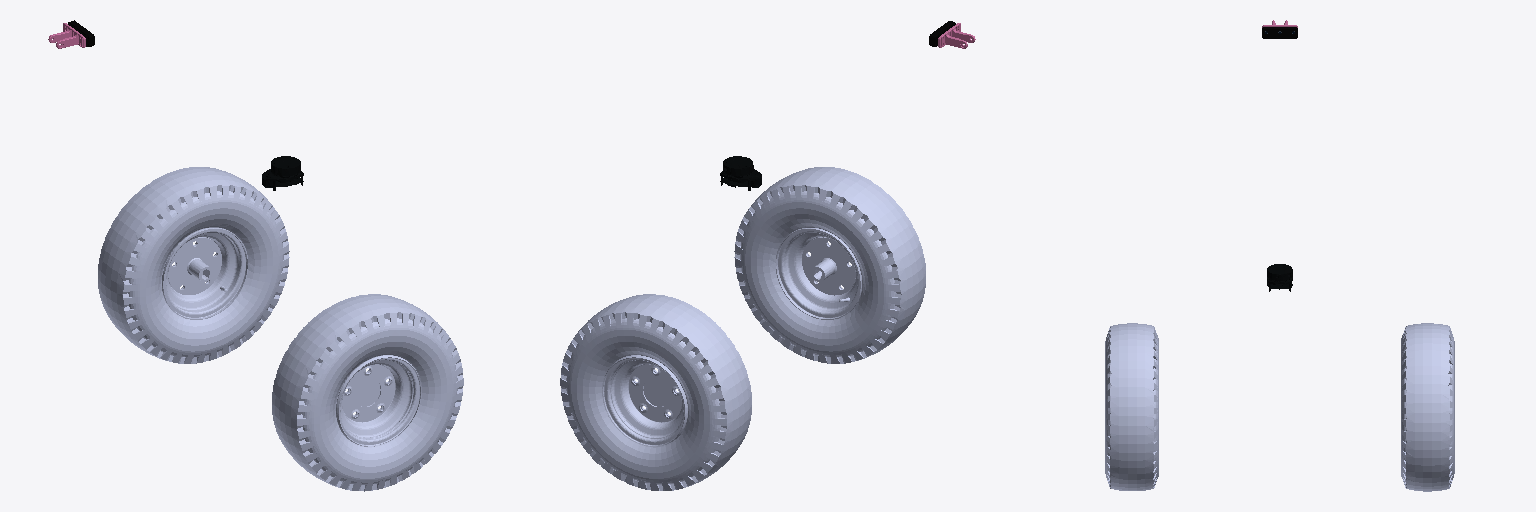
The robot description file, URDF, robot "r3_a":
<?xml version="1.0" ?>
<!-- =================================================================================== -->
<!-- |    This document was autogenerated by xacro from /mnt/c/Users/brand/Documents/ChatGPT/IGVC SIM/ros2/src/igvc_description/urdf/r3_a.urdf.xacro | -->
<!-- |    EDITING THIS FILE BY HAND IS NOT RECOMMENDED                                 | -->
<!-- =================================================================================== -->
<robot name="r3_a">
  <!--Canonical normalized export. Collision boxes are provisional outer bounds, not validated wheel/contact geometry. No sensor mounts or base_footprint added.-->
  <link name="base_link">
    <inertial>
      <origin rpy="0 0 0" xyz="0.037416177594850997 -0.0012743090117183201 0.047060864214616999"/>
      <mass value="81.1401446778104"/>
      <inertia ixx="0.728632085236677" ixy="1.32350753774596E-05" ixz="-0.022485961790775701" iyy="1.14289496966306" iyz="-7.48148338659214e-05" izz="1.53133782528754"/>
    </inertial>
    <visual>
      <origin rpy="0 0 3.1415926535897931" xyz="-0 -0 0"/>
      <geometry>
        <mesh filename="package://igvc_description/meshes/camera_mount/base_static_source_basis.stl"/>
      </geometry>
      <material name="">
        <color rgba="0.752941176470588 0.752941176470588 0.752941176470588 1"/>
      </material>
    </visual>
    <collision name="provisional_bounds_0">
      <origin rpy="0 0 0" xyz="-0.12021836638450623 -0 0.34425326436758041"/>
      <geometry>
        <box size="0.91920000314712524 0.7556459903717041 0.95149345695972443"/>
      </geometry>
    </collision>
  </link>
  <link name="wheel_left">
    <inertial>
      <origin rpy="0 0 0" xyz="1.7979609136242699e-05 -0.0035769797595725 -1.79796950559377e-05"/>
      <mass value="6.00743296352879"/>
      <inertia ixx="0.113142005853355" ixy="-3.62584231888751E-08" ixz="8.1856476746248695e-07" iyy="0.205661598440745" iyz="3.6267072903960198e-08" izz="0.113144233755394"/>
    </inertial>
    <visual>
      <origin rpy="0 0 3.1415926535897931" xyz="-0 -0 0"/>
      <geometry>
        <mesh filename="package://igvc_description/meshes/visual/wheel_right.stl"/>
      </geometry>
      <material name="">
        <color rgba="0.792156862745098 0.819607843137255 0.933333333333333 1"/>
      </material>
    </visual>
    <collision name="provisional_bounds_0">
      <origin rpy="0 0 0" xyz="-0 -0.0019050240516662598 0"/>
      <geometry>
        <box size="0.45904400944709778 0.14729635417461395 0.458810955286026"/>
      </geometry>
    </collision>
  </link>
  <joint name="leftWheel" type="continuous">
    <origin rpy="0 0 0" xyz="0.25591000000000003 0.40526000000000001 -0.074450000000000002"/>
    <parent link="base_link"/>
    <child link="wheel_left"/>
    <axis xyz="-0 1 0"/>
    <limit effort="10" velocity="10"/>
    <dynamics damping="0.5" friction="0.5"/>
  </joint>
  <link name="wheel_right">
    <inertial>
      <origin rpy="0 0 0" xyz="-1.7979609126361799e-05 0.0035769797595726102 -1.7979695055792e-05"/>
      <mass value="6.00743296352881"/>
      <inertia ixx="0.113142005853356" ixy="-3.62584231895956E-08" ixz="-8.1856476739378803e-07" iyy="0.205661598440746" iyz="-3.6267072944762298e-08" izz="0.113144233755395"/>
    </inertial>
    <visual>
      <origin rpy="0 0 3.1415926535897931" xyz="-0 -0 0"/>
      <geometry>
        <mesh filename="package://igvc_description/meshes/visual/wheel_left.stl"/>
      </geometry>
      <material name="">
        <color rgba="0.792156862745098 0.819607843137255 0.933333333333333 1"/>
      </material>
    </visual>
    <collision name="provisional_bounds_0">
      <origin rpy="0 0 0" xyz="-0 0.0019050240516662598 0"/>
      <geometry>
        <box size="0.45904400944709778 0.14729635417461395 0.458810955286026"/>
      </geometry>
    </collision>
  </link>
  <joint name="rightWheel" type="continuous">
    <origin rpy="0 0 0" xyz="0.25591000000000003 -0.40525 -0.074450000000000002"/>
    <parent link="base_link"/>
    <child link="wheel_right"/>
    <axis xyz="-0 -1 0"/>
    <limit effort="10" velocity="10"/>
    <dynamics damping="0.5" friction="0.5"/>
  </joint>
  <link name="left_caster">
    <inertial>
      <origin rpy="0 0 0" xyz="-0.039652255620055601 -5.81009720836689e-05 -0.13418182511891799"/>
      <mass value="1.85010410933945"/>
      <inertia ixx="0.00574331776783894" ixy="2.86835844426741E-08" ixz="-0.000128265973193796" iyy="0.00961425292360563" iyz="8.6762142845401104e-08" izz="0.00547082250538176"/>
    </inertial>
    <visual>
      <origin rpy="0 0 3.1415926535897931" xyz="-0 -0 0"/>
      <geometry>
        <mesh filename="package://igvc_description/meshes/visual/right_caster.stl"/>
      </geometry>
      <material name="">
        <color rgba="0.752941176470588 0.752941176470588 0.752941176470588 1"/>
      </material>
    </visual>
    <collision name="provisional_bounds_0">
      <origin rpy="0 0 0" xyz="-0.044450003653764725 -0.0013969987630844116 -0.12215155526064336"/>
      <geometry>
        <box size="0.20320000499486923 0.12065000087022781 0.25700312526896596"/>
      </geometry>
    </collision>
  </link>
  <joint name="leftCaster" type="continuous">
    <origin rpy="0 0 0" xyz="-0.52775000000000005 0.24612000000000001 -0.03635"/>
    <parent link="base_link"/>
    <child link="left_caster"/>
    <axis xyz="-0 -0 1"/>
    <limit effort="10" velocity="10"/>
    <dynamics damping="0.1" friction="0.1"/>
  </joint>
  <link name="right_caster">
    <inertial>
      <origin rpy="0 0 0" xyz="-0.039652255620043299 -5.8100972084779197e-05 -0.13418182511888299"/>
      <mass value="1.85010410933997"/>
      <inertia ixx="0.00574331776784025" ixy="2.86835844965072E-08" ixz="-0.00012826597319479501" iyy="0.00961425292360711" iyz="8.6762142935348604e-08" izz="0.00547082250538194"/>
    </inertial>
    <visual>
      <origin rpy="0 0 3.1415926535897931" xyz="-0 -0 0"/>
      <geometry>
        <mesh filename="package://igvc_description/meshes/visual/left_caster.stl"/>
      </geometry>
      <material name="">
        <color rgba="0.752941176470588 0.752941176470588 0.752941176470588 1"/>
      </material>
    </visual>
    <collision name="provisional_bounds_0">
      <origin rpy="0 0 0" xyz="-0.044450003653764725 -0.0013969987630844116 -0.12215155526064336"/>
      <geometry>
        <box size="0.20320000499486923 0.12065000087022781 0.25700312526896596"/>
      </geometry>
    </collision>
  </link>
  <joint name="rightCaster" type="continuous">
    <origin rpy="0 0 0" xyz="-0.52775000000000005 -0.24612000000000001 -0.03635"/>
    <parent link="base_link"/>
    <child link="right_caster"/>
    <axis xyz="-0 -0 1"/>
    <limit effort="10" velocity="10"/>
    <dynamics damping="0.1" friction="0.1"/>
  </joint>
  <link name="lidar_link">
    <visual>
      <origin rpy="0 0 0" xyz="0 0 -0.044600000000000001"/>
      <geometry>
        <mesh filename="package://igvc_description/meshes/lidar/rplidar_a1.stl"/>
      </geometry>
      <material name="lidar_dark">
        <color rgba="0.055 0.065 0.07 1"/>
      </material>
    </visual>
  </link>
  <joint name="lidar_mount" type="fixed">
    <parent link="base_link"/>
    <child link="lidar_link"/>
    <origin rpy="0 0 0" xyz="0.27002280000000001 0 0.33960000000000001"/>
  </joint>
  <link name="camera_mount_link">
    <visual>
      <geometry>
        <mesh filename="package://igvc_description/meshes/camera_mount/moving_bracket_pivot_level.stl"/>
      </geometry>
    </visual>
  </link>
  <joint name="camera_pitch_joint" type="revolute">
    <parent link="base_link"/>
    <child link="camera_mount_link"/>
    <origin rpy="0 0 0" xyz="-0.34396835999999997 0 0.80000000000000004"/>
    <axis xyz="0 1 0"/>
    <limit effort="1" lower="-0.5235987755982988" upper="0.5235987755982988" velocity="1"/>
  </joint>
  <link name="camera_link">
    <visual>
      <geometry>
        <mesh filename="package://igvc_description/meshes/camera/oak_d_pro.stl"/>
      </geometry>
      <material name="camera_dark">
        <color rgba="0.05 0.05 0.05 1"/>
      </material>
    </visual>
    <visual name="lens_rings">
      <geometry>
        <mesh filename="package://igvc_description/meshes/camera/oak_d_pro_lens_rings.stl"/>
      </geometry>
      <material name="lens_rings">
        <color rgba="0.3 0.35 0.4 1"/>
      </material>
    </visual>
    <visual name="lens_glass">
      <geometry>
        <mesh filename="package://igvc_description/meshes/camera/oak_d_pro_lens_glass.stl"/>
      </geometry>
      <material name="lens_glass">
        <color rgba="0.03 0.08 0.14 1"/>
      </material>
    </visual>
  </link>
  <joint name="camera_body_fixed" type="fixed">
    <parent link="camera_mount_link"/>
    <child link="camera_link"/>
    <origin rpy="0 0 0" xyz="0.062900429999999993 0 0.0044780200000000001"/>
  </joint>
  <link name="camera_color_optical_frame"/>
  <joint name="camera_optical_fixed" type="fixed">
    <parent link="camera_link"/>
    <child link="camera_color_optical_frame"/>
    <origin rpy="-1.5707963267948966 0 -1.5707963267948966" xyz="0.01155045 0 0.0047637799999999996"/>
  </joint>
</robot>

--- Facts derived from the render (not from the file) ---
3 views of the same robot in one strip: view 1: azimuth 30°, elevation 25°; view 2: azimuth 150°, elevation 25°; view 3: azimuth 270°, elevation 25° (orthographic).
Model r3_a with 9 links and 8 joints (1 revolute, 4 continuous, 3 fixed), rooted at base_link, posed every joint at zero.
Links seen in each view (by area): view 1: wheel_left, wheel_right, lidar_link, camera_mount_link; view 2: wheel_right, wheel_left, lidar_link, camera_mount_link; view 3: wheel_left, wheel_right, lidar_link.
Boxes of the visible links, x1=… form: wheel_left: x1=98, y1=167, x2=289, y2=363; wheel_right: x1=272, y1=294, x2=463, y2=491; lidar_link: x1=262, y1=156, x2=303, y2=190; camera_mount_link: x1=48, y1=23, x2=85, y2=48; wheel_right: x1=734, y1=167, x2=925, y2=363; wheel_left: x1=560, y1=294, x2=751, y2=490; lidar_link: x1=720, y1=156, x2=761, y2=190; camera_mount_link: x1=938, y1=23, x2=975, y2=48; wheel_left: x1=1401, y1=323, x2=1454, y2=491; wheel_right: x1=1105, y1=323, x2=1158, y2=490; lidar_link: x1=1267, y1=264, x2=1292, y2=291.
Size in the robot's own frame: 0.8394 by 0.954 by 1.12 metres.
Meshes: 10 distinct files referenced, 7 mesh visuals loaded (7 binary STL); not drawn: 3 (reference not matched to a file when rendering).
